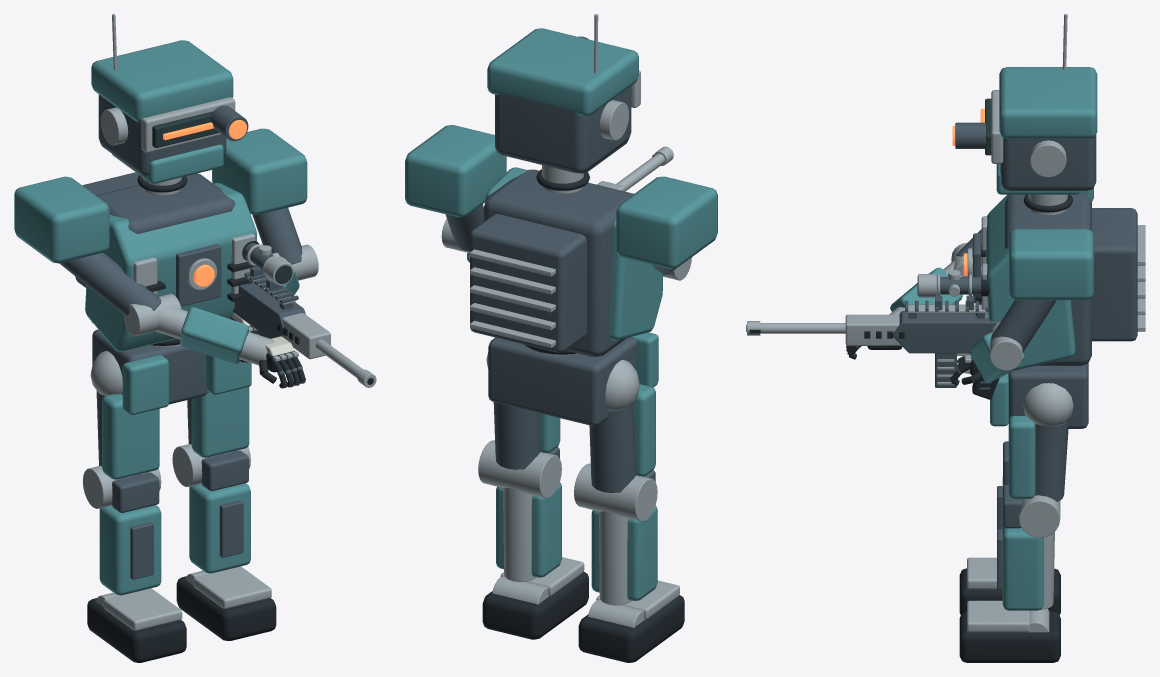
File: robot-sniper-v04.glb
3 renders of one model, left to right at view 1: azimuth 30°, elevation 25°; view 2: azimuth 150°, elevation 25°; view 3: azimuth 270°, elevation 25°, orthographic. The views are drawn at different scales.
Parts seen in each view (by area): view 1: head / Teal armour, torso / Teal armour, torso / Cerakote midnight, arm_L / Teal armour, arm_R / Teal armour, leg_L / Teal armour, shin_L / Teal armour, hips / Teal armour, shin_R / Teal armour, leg_R / Teal armour, shin_R / Elastomer, shin_L / Elastomer (+25 smaller); view 2: torso / Cerakote midnight, head / Teal armour, hips / Cerakote midnight, arm_L / Teal armour, head / Cerakote midnight, arm_R / Teal armour, shin_L / Titanium, shin_R / Titanium, torso / Teal armour, torso / Titanium, shin_R / Elastomer, shin_L / Elastomer (+15 smaller); view 3: torso / Cerakote midnight, head / Teal armour, arm_R / Teal armour, head / Cerakote midnight, torso / Teal armour, integrated_enemy_weapon / Cerakote midnight, integrated_enemy_weapon / Titanium, shin_R / Elastomer, shin_R / Teal armour, shin_R / Titanium, hips / Cerakote midnight, leg_R / Cerakote midnight (+13 smaller).
Boxes of the visible parts, x1,y1,x2,y2 form: head / Teal armour: (91, 40, 233, 183); torso / Teal armour: (85, 183, 256, 351); torso / Cerakote midnight: (75, 172, 235, 322); arm_L / Teal armour: (14, 176, 109, 263); arm_R / Teal armour: (212, 128, 307, 214); leg_L / Teal armour: (102, 394, 159, 479); shin_L / Teal armour: (99, 505, 161, 595); hips / Teal armour: (122, 354, 251, 414); shin_R / Teal armour: (189, 483, 250, 573); leg_R / Teal armour: (191, 387, 249, 457); shin_R / Elastomer: (176, 576, 276, 640); shin_L / Elastomer: (87, 598, 186, 662); torso / Cerakote midnight: (470, 169, 633, 356); head / Teal armour: (487, 28, 638, 173); hips / Cerakote midnight: (488, 337, 637, 425); arm_L / Teal armour: (616, 176, 717, 268); head / Cerakote midnight: (495, 36, 631, 173); arm_R / Teal armour: (405, 125, 506, 217); shin_L / Titanium: (588, 511, 679, 627); shin_R / Titanium: (492, 488, 584, 604); torso / Teal armour: (485, 167, 663, 340); torso / Titanium: (470, 249, 555, 347); shin_R / Elastomer: (482, 572, 588, 639); shin_L / Elastomer: (578, 595, 684, 662); torso / Cerakote midnight: (973, 193, 1137, 365); head / Teal armour: (996, 67, 1097, 194); arm_R / Teal armour: (1009, 229, 1093, 300); head / Cerakote midnight: (955, 122, 1096, 190); torso / Teal armour: (986, 194, 1075, 370); integrated_enemy_weapon / Cerakote midnight: (893, 277, 1000, 353); integrated_enemy_weapon / Titanium: (747, 270, 987, 373); shin_R / Elastomer: (959, 611, 1060, 662); shin_R / Teal armour: (1002, 520, 1043, 610); shin_R / Titanium: (967, 531, 1054, 632); hips / Cerakote midnight: (1008, 363, 1088, 428); leg_R / Cerakote midnight: (1035, 421, 1068, 501).
Size of the model in its own units: 0.834 by 1.89 by 1.14.
